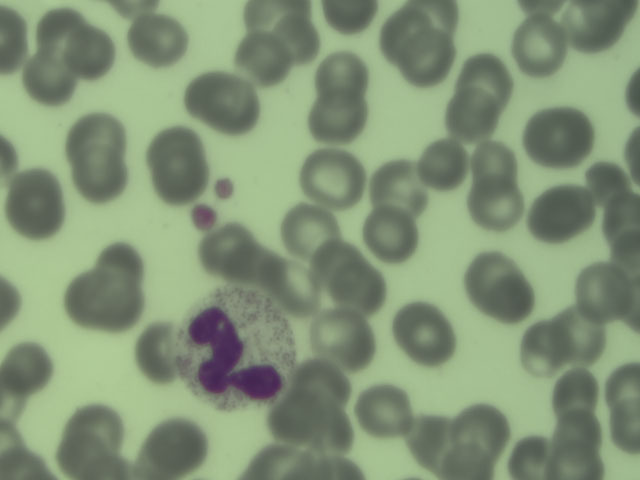Platelets: (189, 202, 223, 233), (213, 177, 239, 201)
RBC: (1, 334, 57, 389), (363, 205, 418, 260), (305, 151, 360, 206), (318, 308, 373, 363), (280, 200, 335, 255), (401, 413, 456, 468), (457, 399, 512, 454), (282, 391, 337, 446), (291, 359, 346, 414), (356, 383, 411, 438), (547, 421, 602, 476), (544, 363, 599, 418), (397, 309, 452, 364), (469, 259, 524, 314), (518, 322, 573, 377), (557, 308, 612, 363), (309, 89, 364, 144), (314, 43, 369, 98), (531, 184, 586, 239), (529, 110, 584, 165), (468, 178, 523, 233), (465, 138, 520, 193), (416, 136, 471, 191), (444, 84, 499, 139), (460, 49, 515, 104), (511, 22, 566, 77), (403, 31, 458, 86), (378, 7, 433, 62), (129, 322, 184, 377), (151, 418, 206, 473), (64, 398, 119, 453), (70, 270, 125, 325), (89, 238, 144, 293), (196, 79, 251, 134), (274, 14, 329, 69), (236, 27, 291, 82), (153, 139, 208, 194), (72, 146, 127, 201), (69, 109, 124, 164), (9, 176, 64, 231), (128, 12, 183, 67), (65, 24, 120, 79), (34, 5, 89, 60), (18, 51, 73, 106), (370, 157, 425, 212), (1, 424, 55, 480), (567, 1, 622, 55), (262, 263, 317, 315), (325, 262, 384, 310), (575, 265, 628, 318), (597, 190, 640, 253), (233, 442, 304, 480), (199, 227, 249, 279), (505, 432, 556, 480), (79, 443, 136, 480), (602, 359, 640, 414), (583, 158, 628, 204), (605, 400, 640, 456), (319, 1, 373, 34), (251, 1, 316, 28), (310, 451, 370, 480), (1, 5, 24, 78), (443, 446, 492, 480), (407, 1, 461, 30), (1, 265, 22, 332)
WBC: (181, 289, 292, 411)
